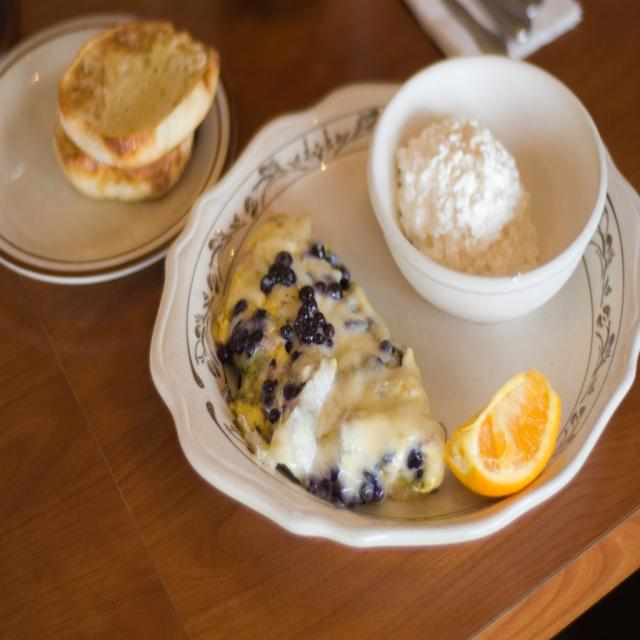Lemon: (443, 371, 561, 497)
